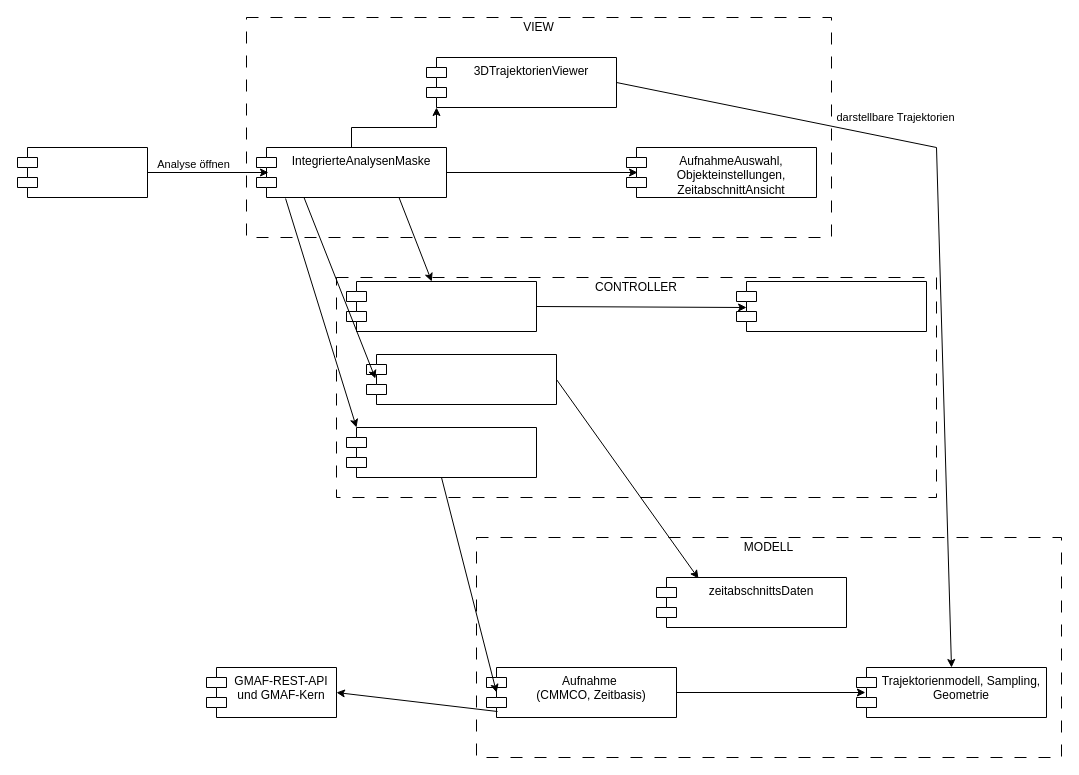
This 1079x775 diagram has some shape labels left out. The shapes that lost their labels are listed below. From the top down, each one's centre as x and y in pixels, then its label:
At pixel 82 172: "GMAF-Ergebnis- ansicht".
At pixel 441 306: "steuereVideoWiedergabe".
At pixel 831 306: "Playback".
At pixel 461 379: "benutzeZeitabschnitte".
At pixel 441 452: "benutzeAufnahmeSteuerung".
